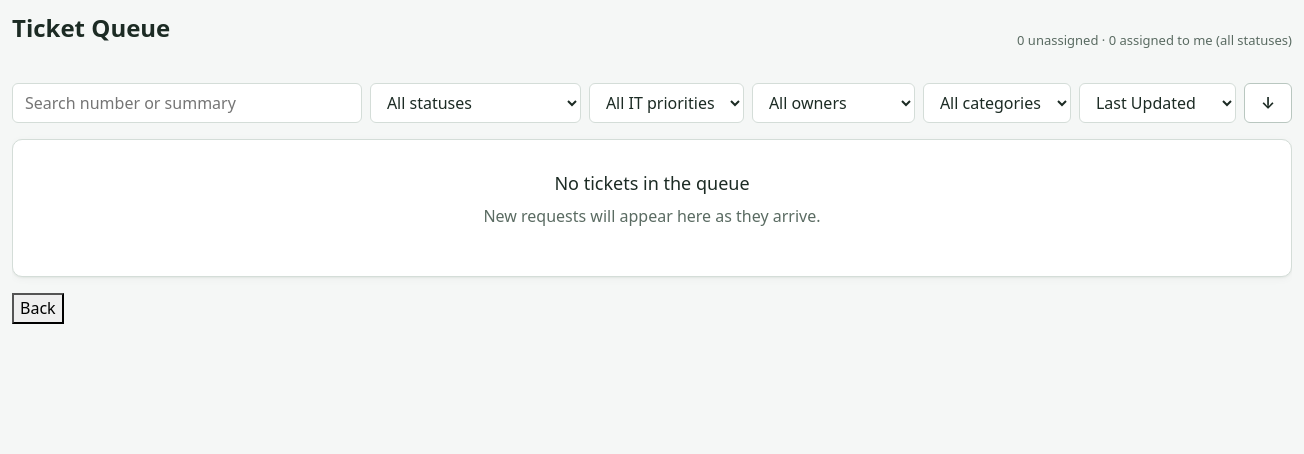
Test: UI-39: changing a filter writes the URL, so Back restores the previous filter › in the Queue, a filter chosen while a search is pending is kept
Type "vpn" into the search field named "Search tickets" at [187, 103], box [12,83,362,123]
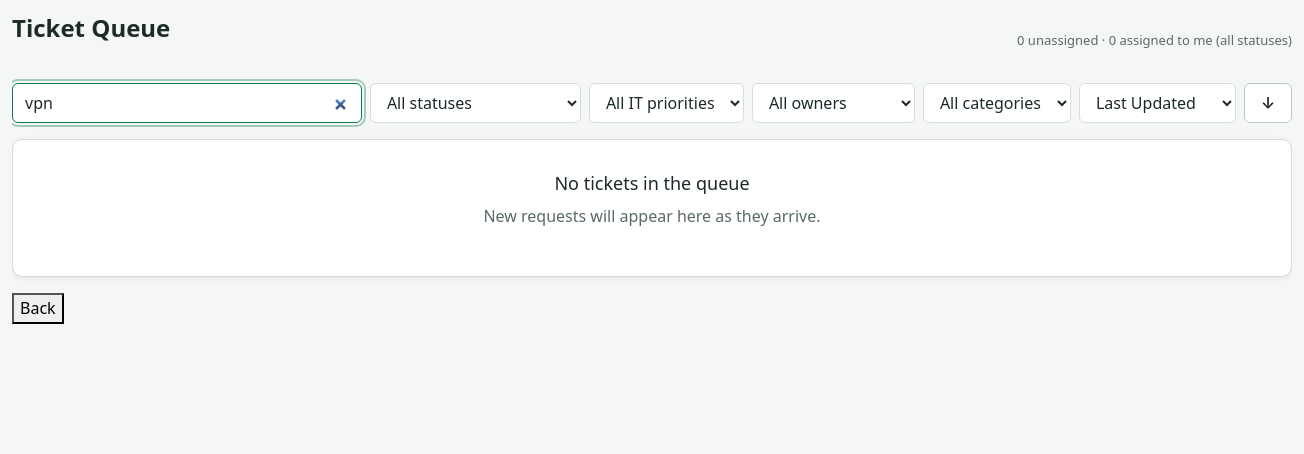
Select "Low" in the dropdown named "Filter by IT priority" at [666, 103], box [589,83,744,123]
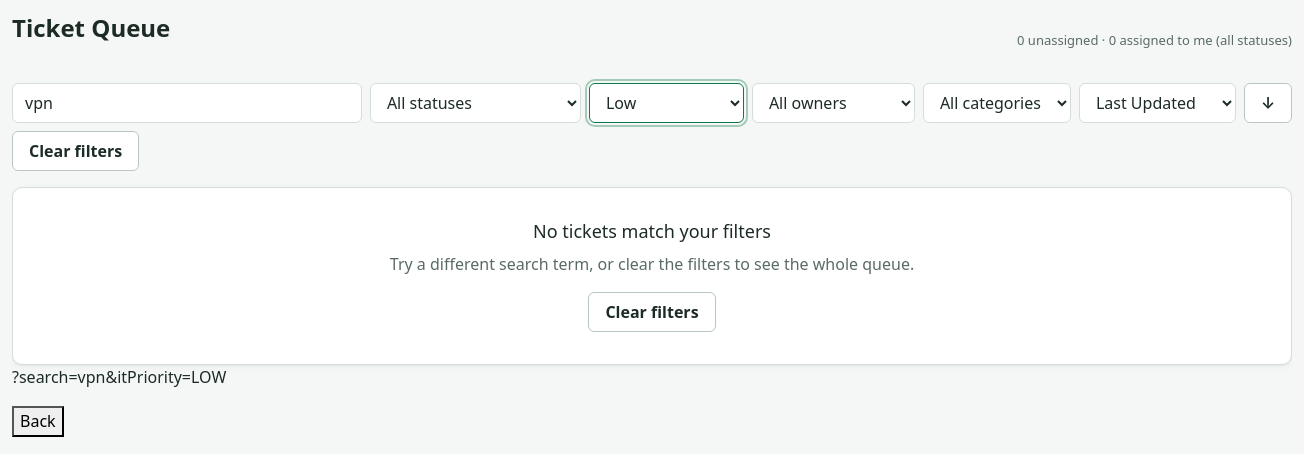
Expected: the text with test id "search" shows "search=vpn", [12,366,226,388]
Expected: the text with test id "search" shows "itPriority=LOW", [12,366,226,388]
